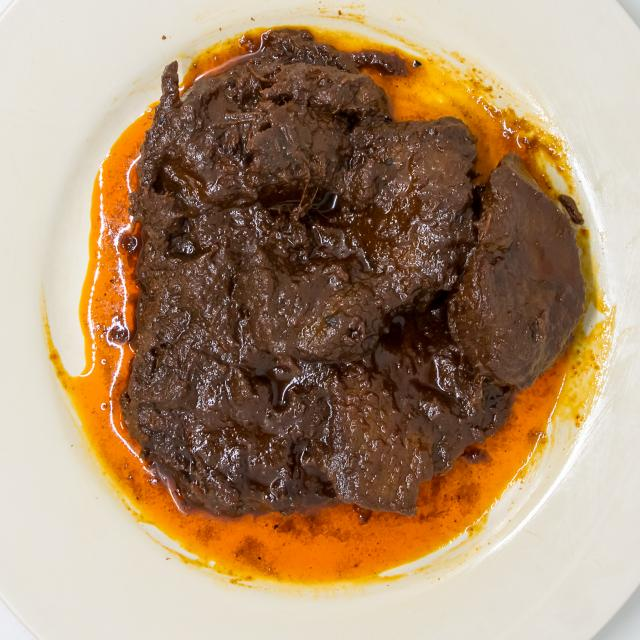Rendang: (106, 20, 596, 531)
